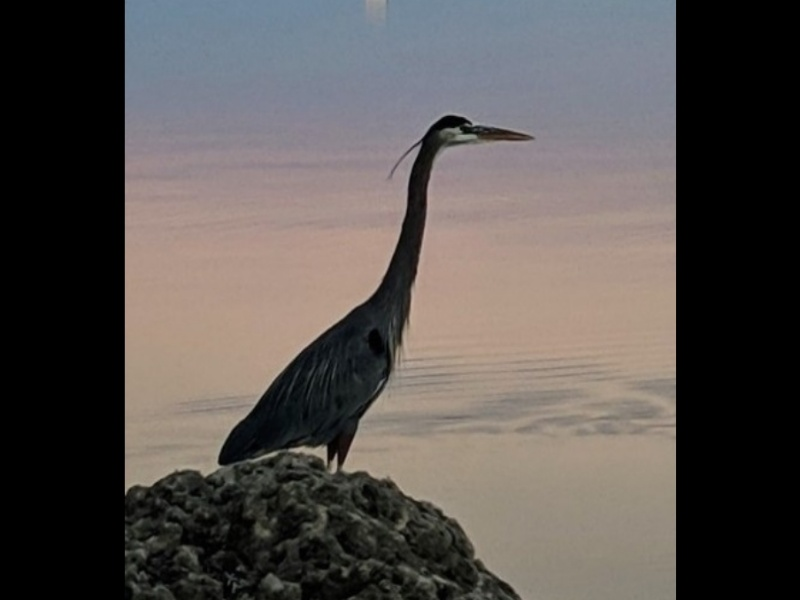heron: (209, 113, 535, 479)
